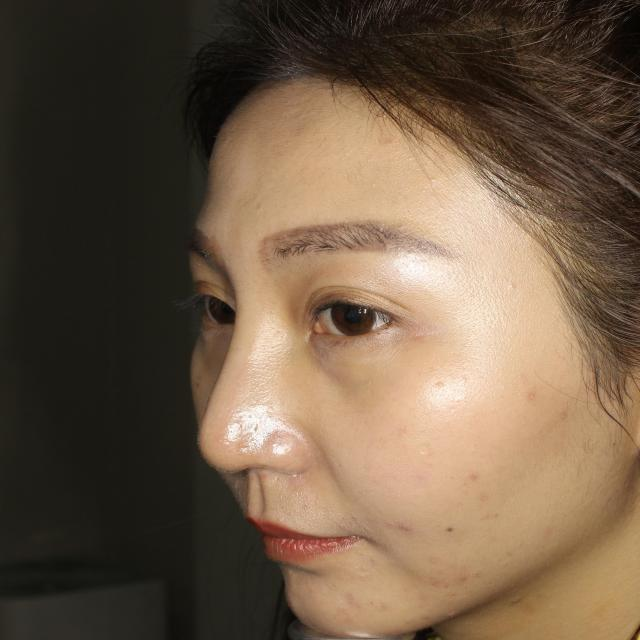comedone: (394, 516, 423, 543)
